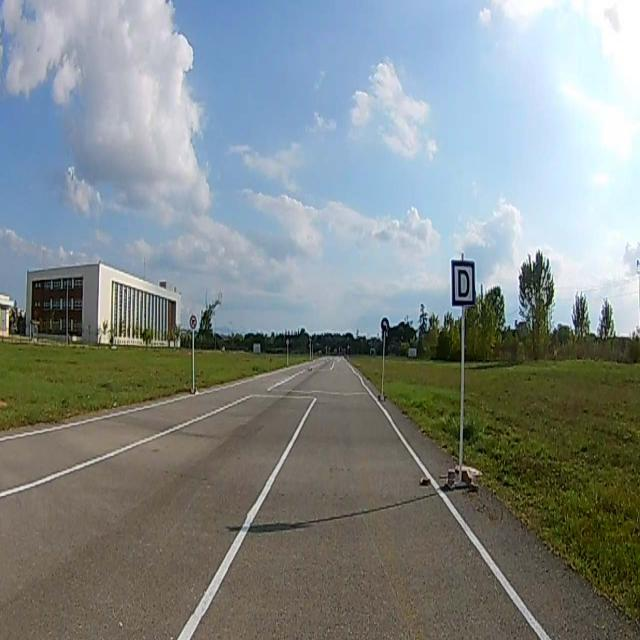durak: (452, 261, 474, 303)
sol: (381, 319, 389, 332)
